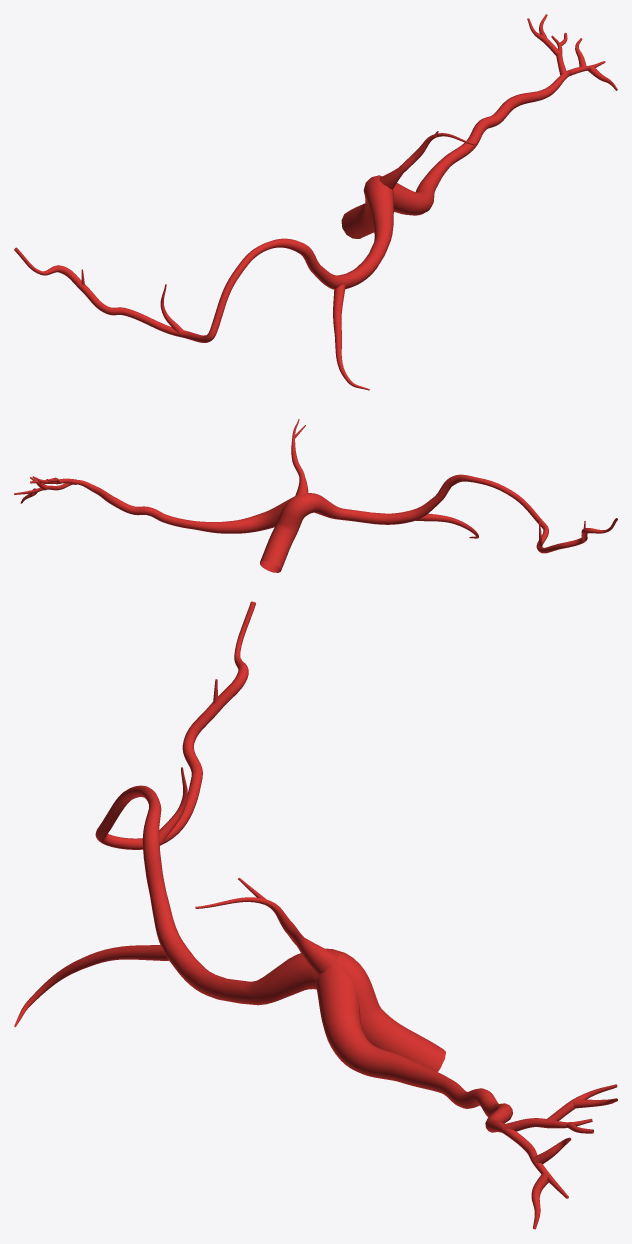
Rendered from circulatorio-coeliac-trunk.glb.
The picture shows the model from 3 angles, top to bottom: view 1: azimuth 30°, elevation 25°; view 2: azimuth 150°, elevation 25°; view 3: azimuth 270°, elevation 25°; orthographic projection. The views are drawn at different scales.
Visible parts, largest first — view 1: Splenic artery, Proper hepatic artery, Common hepatic artery, Coeliac trunk, Gastroduodenal artery, Left gastric artery; view 2: Splenic artery, Proper hepatic artery, Coeliac trunk, Common hepatic artery, Left gastric artery, Gastroduodenal artery; view 3: Splenic artery, Proper hepatic artery, Common hepatic artery, Coeliac trunk, Gastroduodenal artery, Left gastric artery.
Boxes of the visible parts, x1,y1,x2,y2 form: Splenic artery: (393,14,617,215); Proper hepatic artery: (14,238,346,342); Common hepatic artery: (339,176,393,289); Coeliac trunk: (341,175,393,238); Gastroduodenal artery: (333,284,369,390); Left gastric artery: (379,131,475,189); Splenic artery: (14,476,295,533); Proper hepatic artery: (409,474,617,553); Coeliac trunk: (260,495,307,572); Common hepatic artery: (296,493,411,524); Left gastric artery: (291,419,308,495); Gastroduodenal artery: (415,513,478,538); Splenic artery: (315,960,617,1229); Proper hepatic artery: (95,601,255,955); Common hepatic artery: (166,943,344,1005); Coeliac trunk: (333,953,445,1071); Gastroduodenal artery: (14,945,173,1027); Left gastric artery: (195,877,335,974).
Bounding box in the file's own units: 0.2114 × 0.0492 × 0.106.
